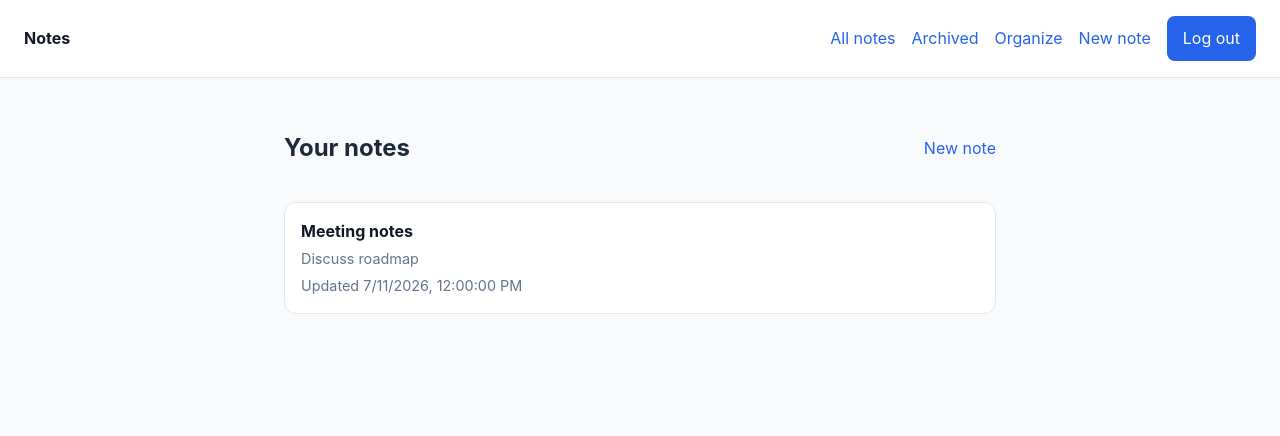
Test: notes list routing › navigates from a list item into the detail view
Click the link "Meeting notes Discuss roadmap Updated 7/11/2026, 12:00:00 PM" at [357, 231], box [284,202,996,314]
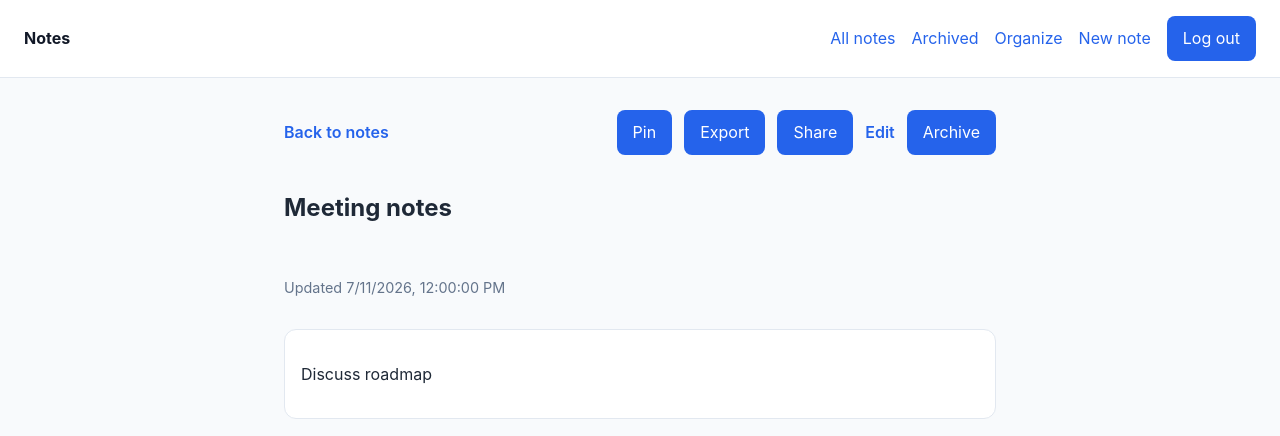
Expected: the text "Discuss roadmap" is shown, [301,364,432,384]
Expected: the element with test id "note-detail" is shown, [284,110,996,419]
Expected: the heading "Meeting notes" is shown, [284,194,452,222]
